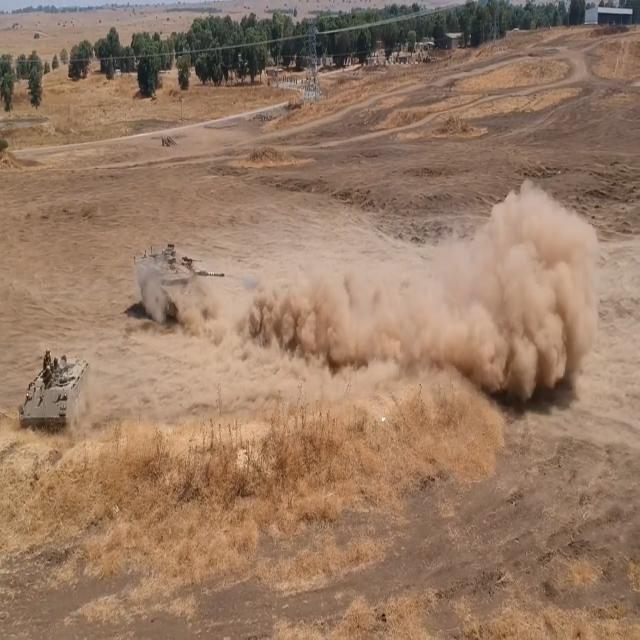tank: (131, 242, 225, 330)
